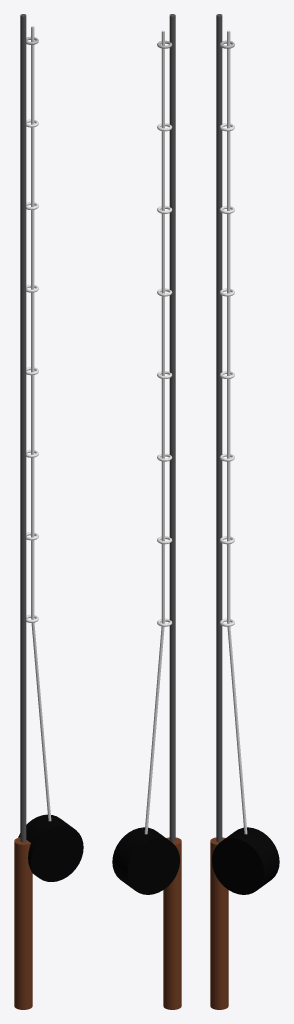
File: rod.gltf
The picture shows the model from 3 angles, left to right: view 1: azimuth 30°, elevation 25°; view 2: azimuth 210°, elevation 25°; view 3: azimuth 330°, elevation 25°; orthographic projection.
Parts seen in each view (by area): view 1: Rod, Handle, Cylinder, Cylinder.001, Cylinder.002; view 2: Rod, Cylinder, Handle, Cylinder.001, Cylinder.002; view 3: Rod, Cylinder, Handle, Cylinder.001, Cylinder.002.
Boxes of the visible parts, x1,y1,x2,y2 form: Rod: (20,14,26,842); Handle: (14,837,32,1009); Cylinder: (18,814,83,881); Cylinder.001: (31,26,34,619); Cylinder.002: (31,619,51,821); Rod: (169,14,175,842); Cylinder: (112,827,179,894); Handle: (163,837,181,1009); Cylinder.001: (161,30,164,623); Cylinder.002: (144,626,164,834); Rod: (216,14,222,842); Cylinder: (212,827,279,894); Handle: (210,837,228,1009); Cylinder.001: (227,30,230,623); Cylinder.002: (227,626,247,834).
Size of the model in its own units: 0.23 by 3.6 by 0.1.
